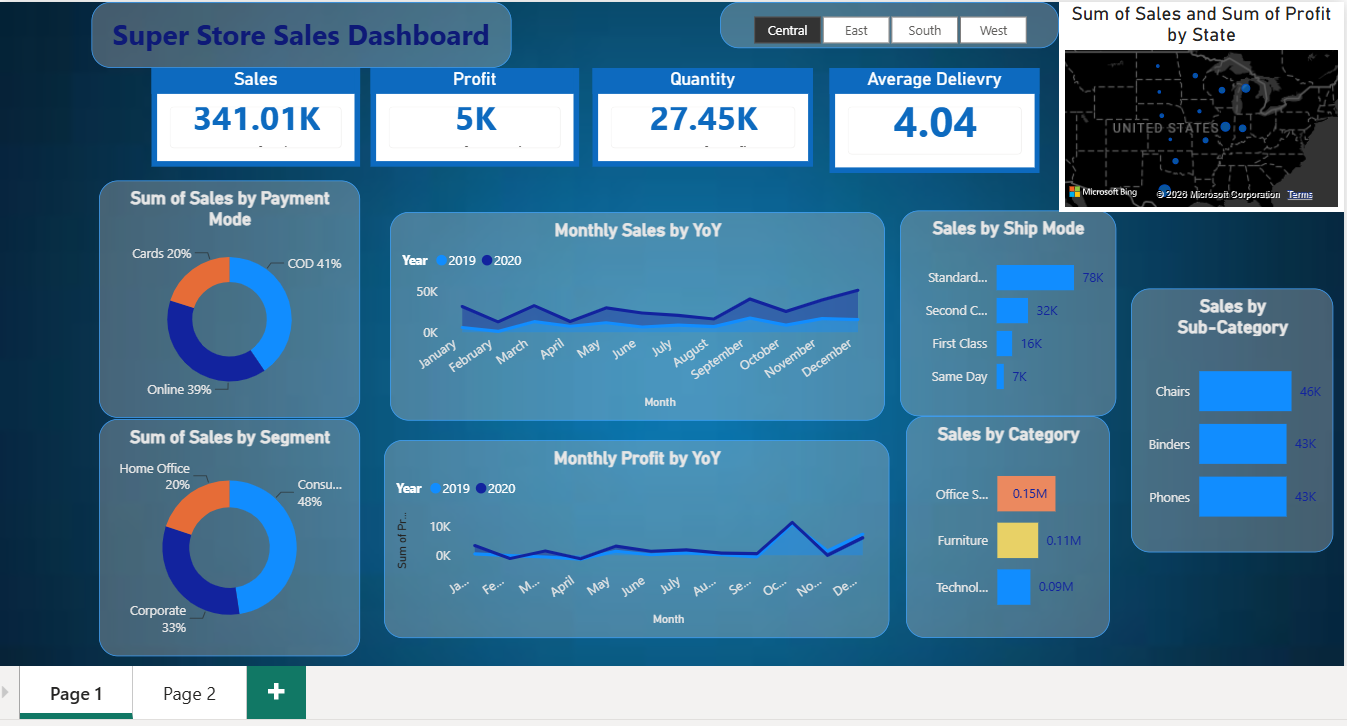

What the dashboard file says about the page in this screenshot:
{"tool":"powerbi","page":{"name":"Page 1","canvas":[1280,720],"ordinal":0},"visuals":[{"type":"clusteredBarChart","title":"Sales by Category","fields":{"Category":["SuperStore_Sales_Dataset (1).Category"],"Y":["Sum(SuperStore_Sales_Dataset (1).Sales)"]},"box":[862.9,394.3,194.3,211.4],"z":0},{"type":"clusteredBarChart","title":"Sales by Sub-Category","fields":{"Category":["SuperStore_Sales_Dataset (1).Sub-Category"],"Y":["Sum(SuperStore_Sales_Dataset (1).Sales)"]},"box":[1077.1,272.9,192.9,251.4],"z":1000},{"type":"clusteredBarChart","title":"Sales by Ship Mode","fields":{"Category":["SuperStore_Sales_Dataset (1).Ship Mode"],"Y":["Sum(SuperStore_Sales_Dataset (1).Sales)"]},"box":[857.1,198.6,205.7,195.7],"z":2000},{"type":"stackedAreaChart","title":"Monthly Sales by YoY","fields":{"Y":["Sum(SuperStore_Sales_Dataset (1).Sales)"],"Category":["SuperStore_Sales_Dataset (1).Order Date.Variation.Date Hierarchy.Month"],"Series":["SuperStore_Sales_Dataset (1).Order Date.Variation.Date Hierarchy.Year"]},"box":[371.4,200,471.4,198.6],"z":3000},{"type":"stackedAreaChart","title":"Monthly Profit by YoY","fields":{"Category":["SuperStore_Sales_Dataset (1).Order Date.Variation.Date Hierarchy.Month"],"Series":["SuperStore_Sales_Dataset (1).Order Date.Variation.Date Hierarchy.Year"],"Y":["Sum(SuperStore_Sales_Dataset (1).Profit)"]},"box":[365.7,417.1,481.4,188.6],"z":4000},{"type":"map","fields":{"Category":["SuperStore_Sales_Dataset (1).State"],"Size":["Sum(SuperStore_Sales_Dataset (1).Sales)"]},"box":[1008.6,0,271.4,200],"z":5000},{"type":"donutChart","fields":{"Category":["SuperStore_Sales_Dataset (1).Segment"],"Y":["Sum(SuperStore_Sales_Dataset (1).Sales)"]},"box":[94.3,397.1,248.6,225.7],"z":6000},{"type":"donutChart","fields":{"Category":["SuperStore_Sales_Dataset (1).Payment Mode"],"Y":["Sum(SuperStore_Sales_Dataset (1).Sales)"]},"box":[94.3,170,248.6,225.7],"z":7000},{"type":"slicer","fields":{"Values":["SuperStore_Sales_Dataset (1).Region"]},"box":[685.7,0,322.9,44.3],"z":8000},{"type":"textbox","box":[87.1,0,400,62.9],"z":9000},{"type":"cardVisual","title":"Sales","fields":{"Data":["Sum(SuperStore_Sales_Dataset (1).Sales)"]},"box":[144.3,62.9,198.6,94.3],"z":10000},{"type":"cardVisual","title":"Profit","fields":{"Data":["Sum(SuperStore_Sales_Dataset (1).Quantity)"]},"box":[352.9,62.9,198.6,94.3],"z":11000},{"type":"cardVisual","title":"Quantity","fields":{"Data":["Sum(SuperStore_Sales_Dataset (1).Profit)"]},"box":[564.3,62.9,210,94.3],"z":12000},{"type":"cardVisual","title":"Average Delievry","fields":{"Data":["Avg(SuperStore_Sales_Dataset (1).averagedelievry)"]},"box":[790,62.9,200,100],"z":13000}]}

Visuals, with their boxes on the page's 1280x720 design canvas (x1, y1, x2, y2). These are canvas units, not pixel positions in the 1347x726 screenshot, which may show the page scaled, cropped or inside an application window:
"Sales by Category" clusteredBarChart: 863, 394, 1057, 606
"Sales by Sub-Category" clusteredBarChart: 1077, 273, 1270, 524
"Sales by Ship Mode" clusteredBarChart: 857, 199, 1063, 394
"Monthly Sales by YoY" stackedAreaChart: 371, 200, 843, 399
"Monthly Profit by YoY" stackedAreaChart: 366, 417, 847, 606
map - SuperStore_Sales_Dataset (1).State x Sum(SuperStore_Sales_Dataset (1).Sales): 1009, 0, 1280, 200
donutChart - SuperStore_Sales_Dataset (1).Segment x Sum(SuperStore_Sales_Dataset (1).Sales): 94, 397, 343, 623
donutChart - SuperStore_Sales_Dataset (1).Payment Mode x Sum(SuperStore_Sales_Dataset (1).Sales): 94, 170, 343, 396
slicer - SuperStore_Sales_Dataset (1).Region: 686, 0, 1009, 44
textbox: 87, 0, 487, 63
"Sales" cardVisual: 144, 63, 343, 157
"Profit" cardVisual: 353, 63, 552, 157
"Quantity" cardVisual: 564, 63, 774, 157
"Average Delievry" cardVisual: 790, 63, 990, 163
